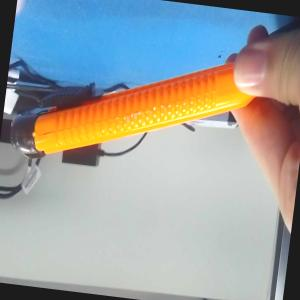estilete: (6, 34, 260, 186)
